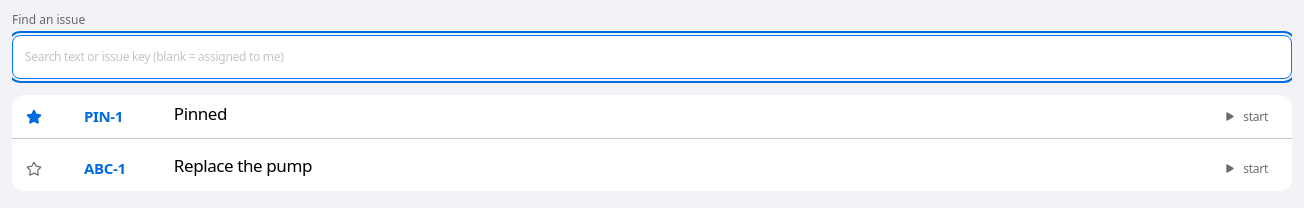
pinned issues › drops them once a search is on, so the results stand alone
The width and height of the screenshot is (1304, 208).
Expected: the button "PIN-1" is shown, [80, 94, 166, 138]
Type "pump" into the field labelled "Find an issue" at (652, 56), box [12, 34, 1292, 78]
Wait 300 ms
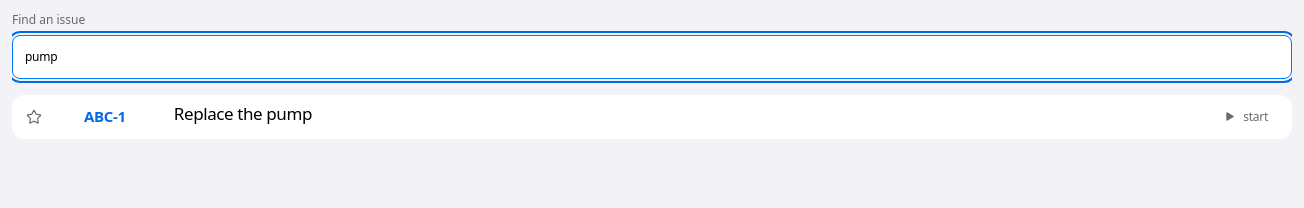
Result: the button "PIN-1" is gone
